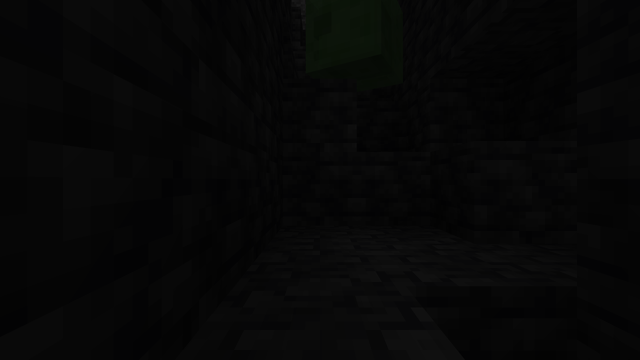slimes: (318, 2, 407, 91)
